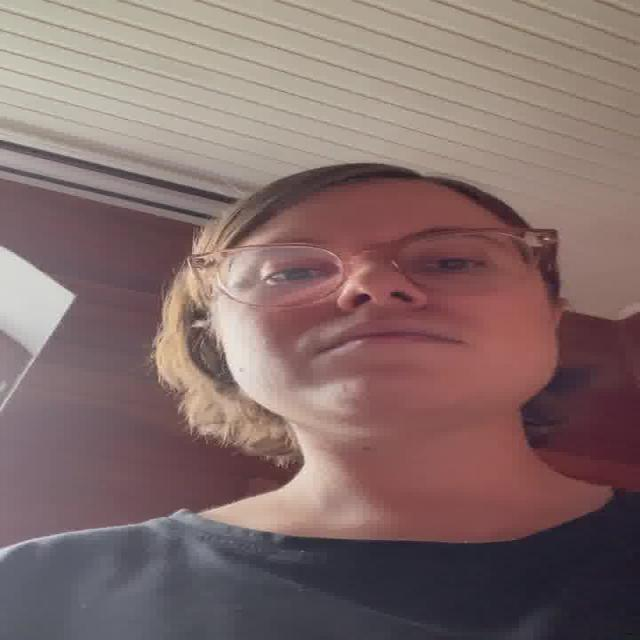eye: (415, 258, 486, 272), (261, 269, 327, 281)
nose: (341, 302, 424, 322)
